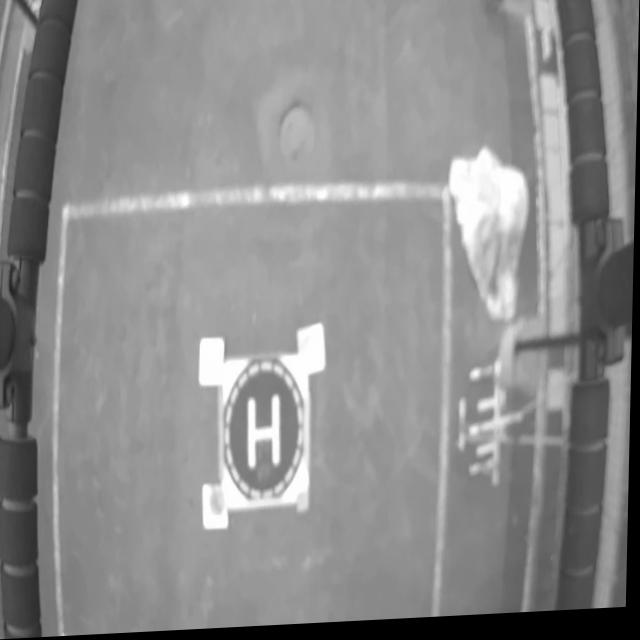Helipad: (250, 396, 282, 473)
